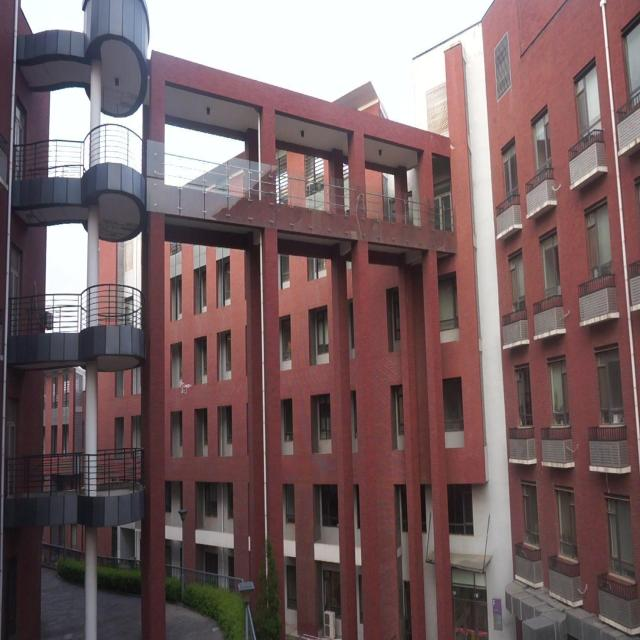drone: (177, 375, 194, 400)
